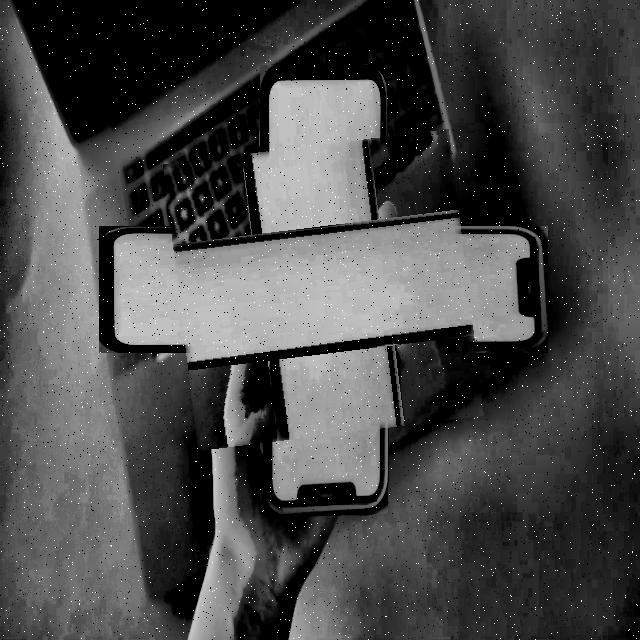Phone: (172, 137, 476, 442)
